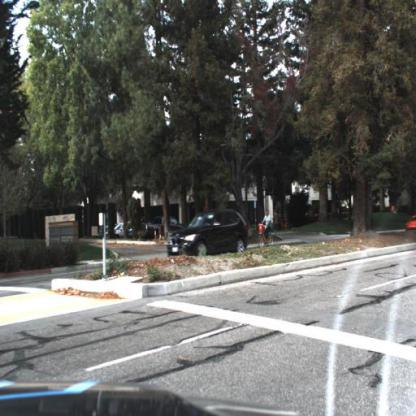biker: (254, 206, 277, 249)
car: (168, 210, 249, 264), (143, 213, 184, 244), (403, 211, 416, 236)
